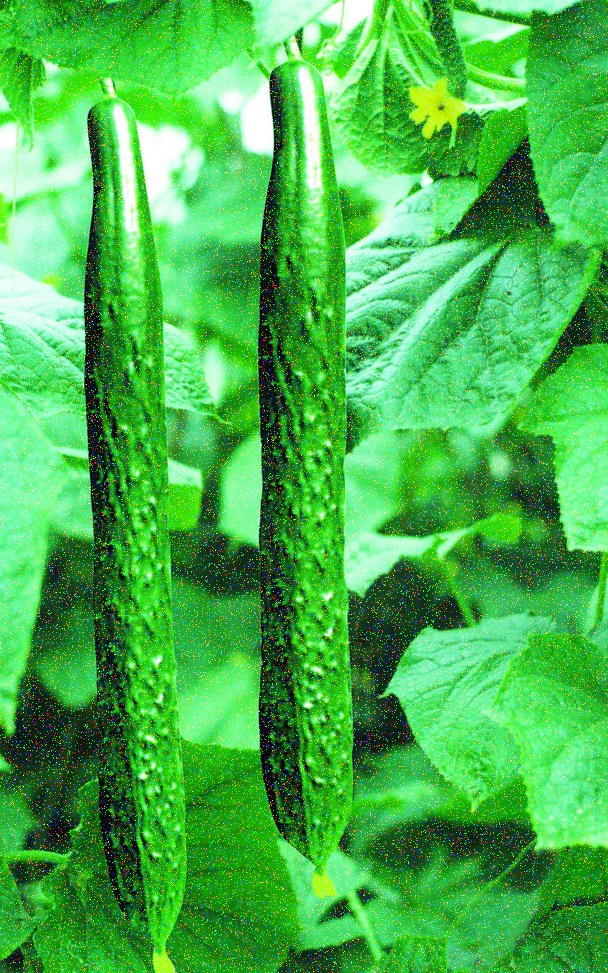cucumber: (85, 100, 195, 955), (257, 60, 363, 876)
cucumber_plant: (366, 19, 606, 410)
